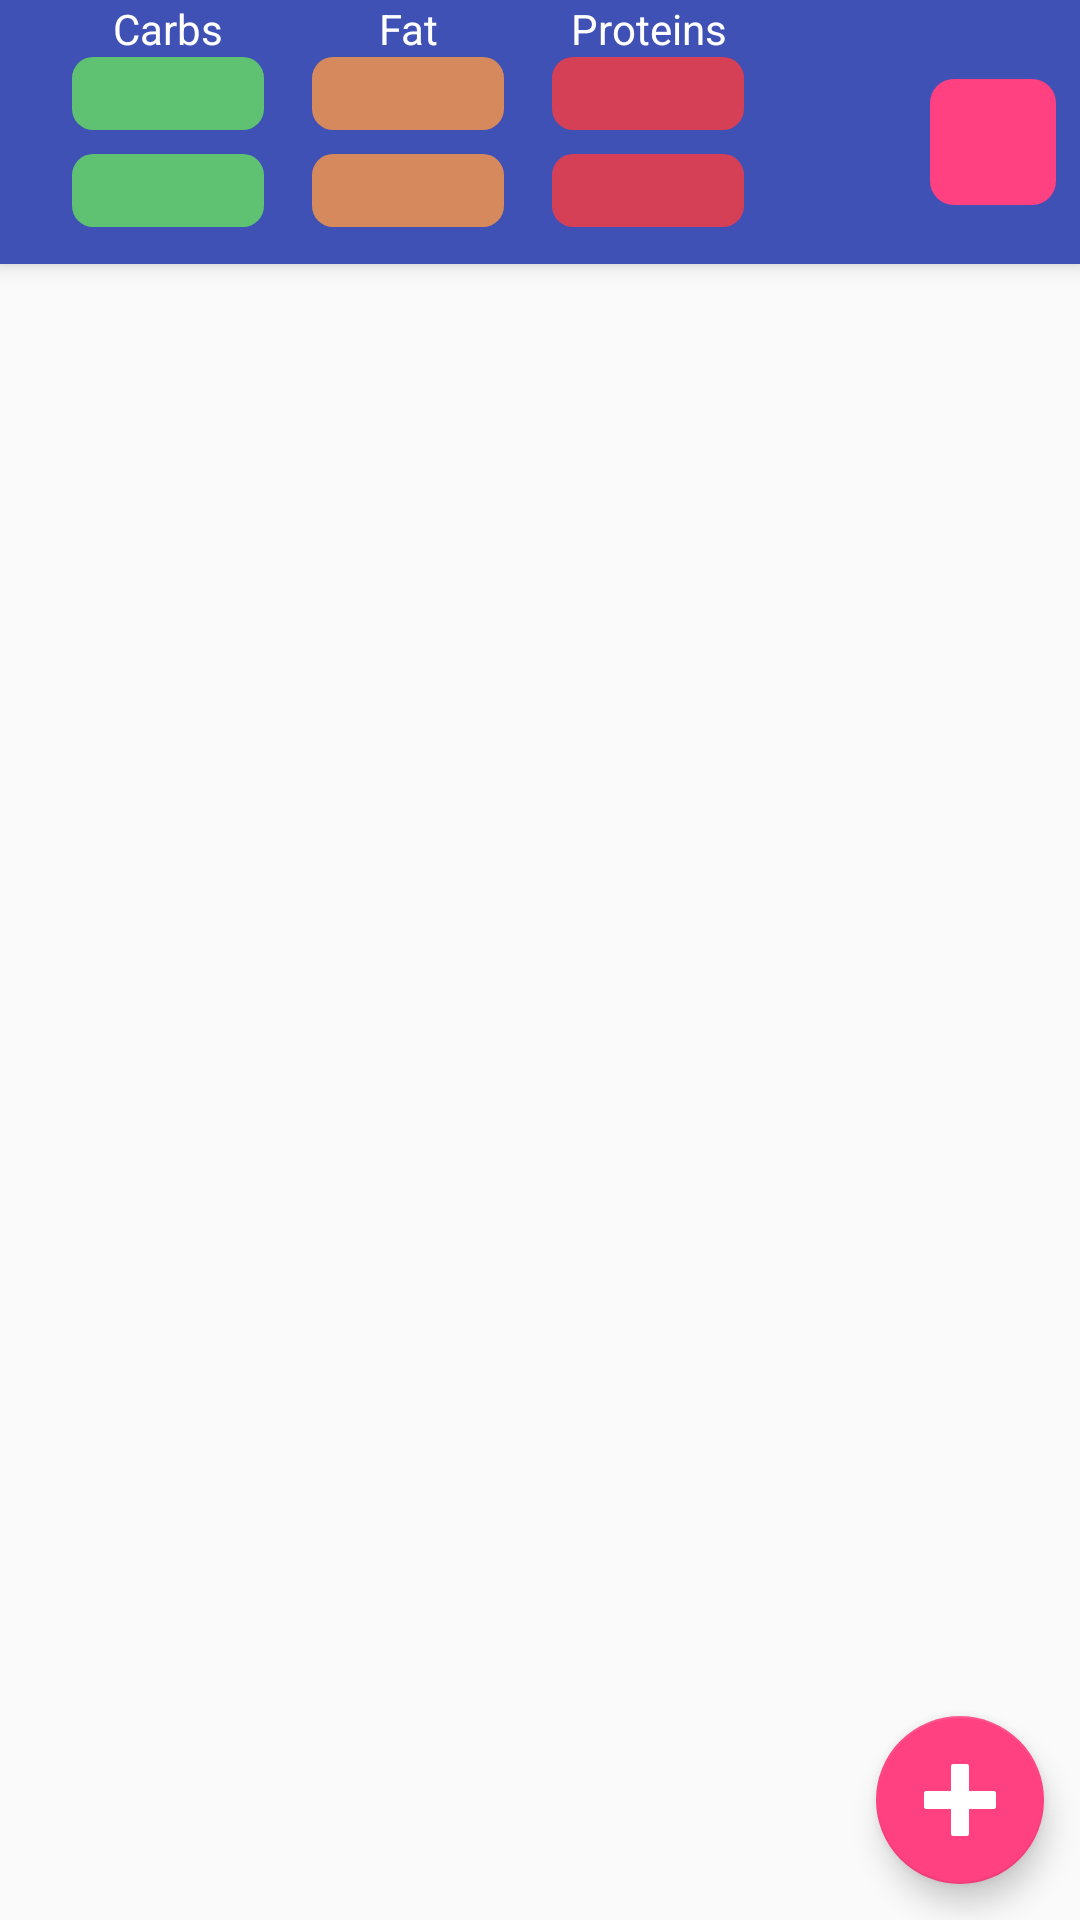

Screen size 1080x1920. Icon name, then its box in pixels as (x1, y1, x2, y2):
add a new food: (876, 1716, 1044, 1884)
